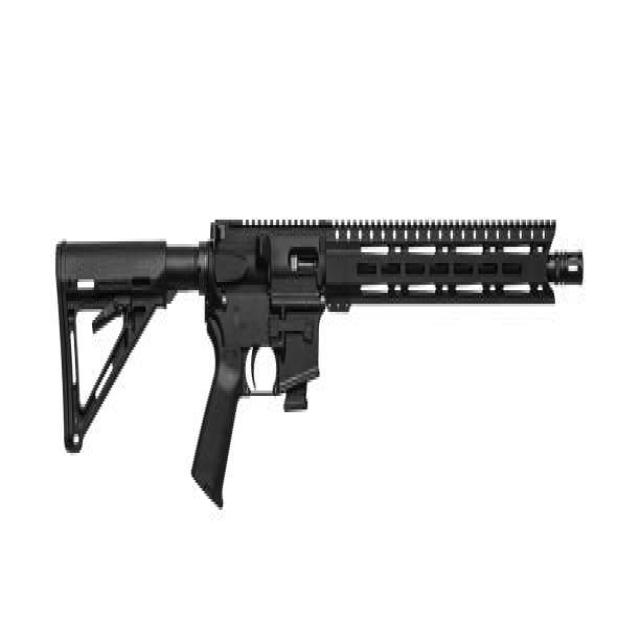rifle: (49, 201, 589, 531)
